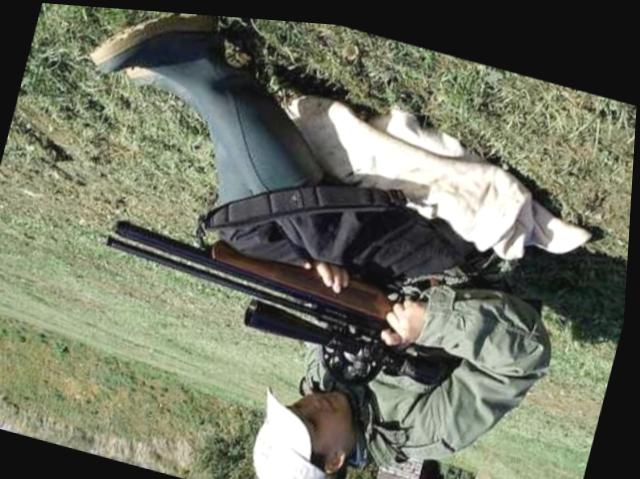rifle: (53, 184, 516, 414)
